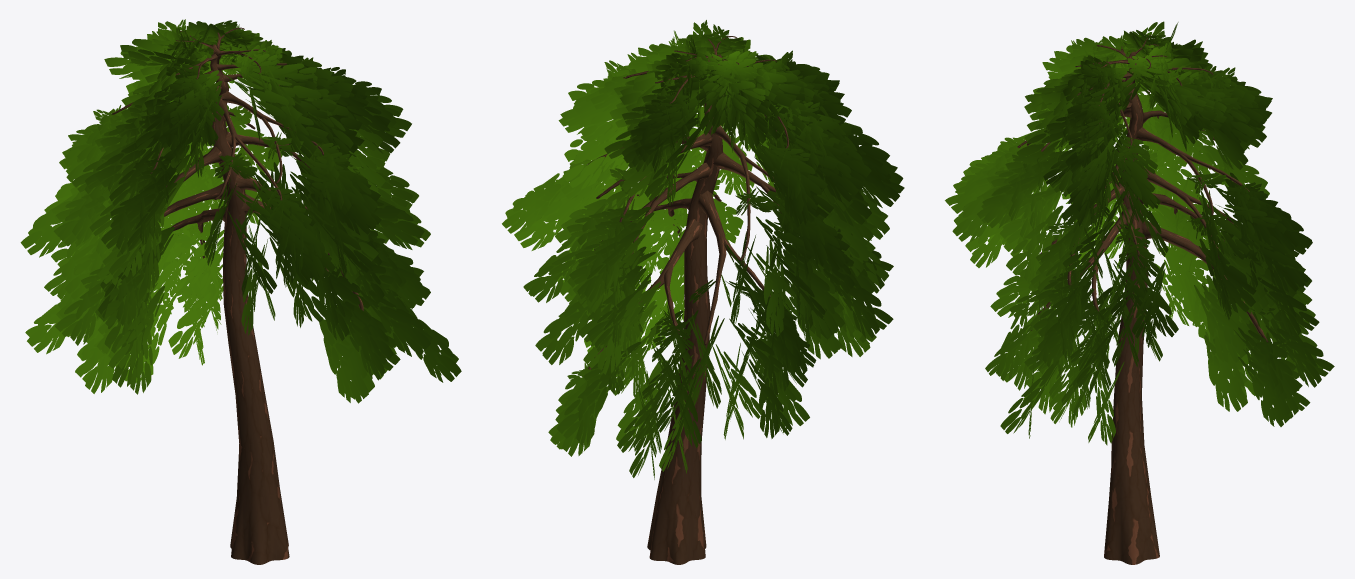
Rendered from nature_giantpine_2.glb.
3 renders of one model, left to right at view 1: azimuth 30°, elevation 25°; view 2: azimuth 150°, elevation 25°; view 3: azimuth 270°, elevation 25°, orthographic. The views are drawn at different scales.
Parts seen in each view (by area): view 1: nature_giantpine_2; view 2: nature_giantpine_2; view 3: nature_giantpine_2.
Boxes of the visible parts, x1=… form: nature_giantpine_2: x1=20, y1=19, x2=461, y2=564; nature_giantpine_2: x1=502, y1=20, x2=904, y2=564; nature_giantpine_2: x1=945, y1=21, x2=1334, y2=564.
Size of the model in its own units: 1276 by 1690 by 1245.
2 materials, 2 textured.
